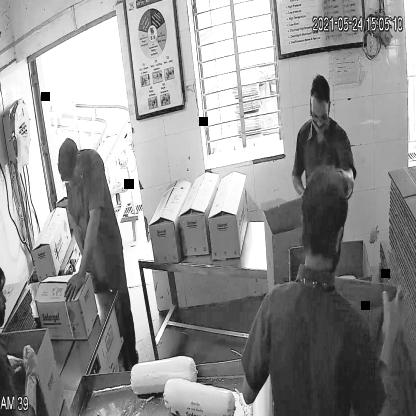goggles: (308, 106, 330, 127)
